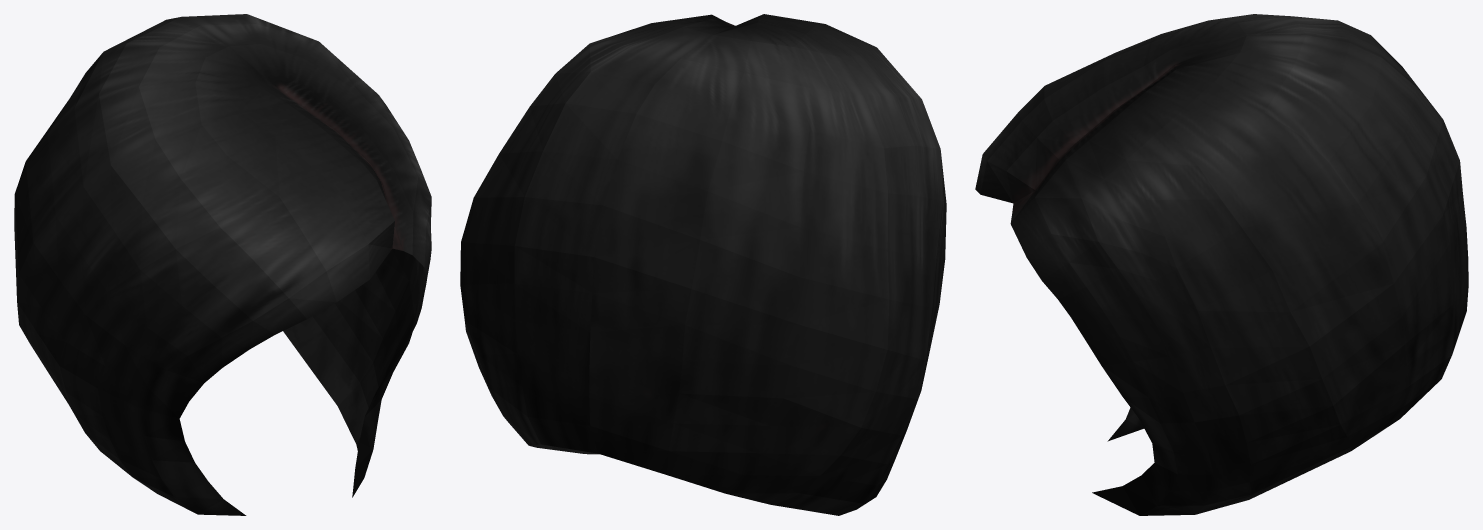
Rendered from Girl_FXB.obj.
The picture shows the model from 3 angles, left to right: view 1: azimuth 30°, elevation 25°; view 2: azimuth 150°, elevation 25°; view 3: azimuth 270°, elevation 25°; orthographic projection. The views are drawn at different scales.
Visible parts, largest first — view 1: sdef_FaFair02; view 2: sdef_FaFair02; view 3: sdef_FaFair02.
Boxes of the visible parts, left/top/right/bottom form: sdef_FaFair02: left=14, top=14, right=431, bottom=515; sdef_FaFair02: left=460, top=14, right=946, bottom=515; sdef_FaFair02: left=975, top=14, right=1468, bottom=515.
Bounding box in the file's own units: 2.67 × 2.91 × 2.97.
